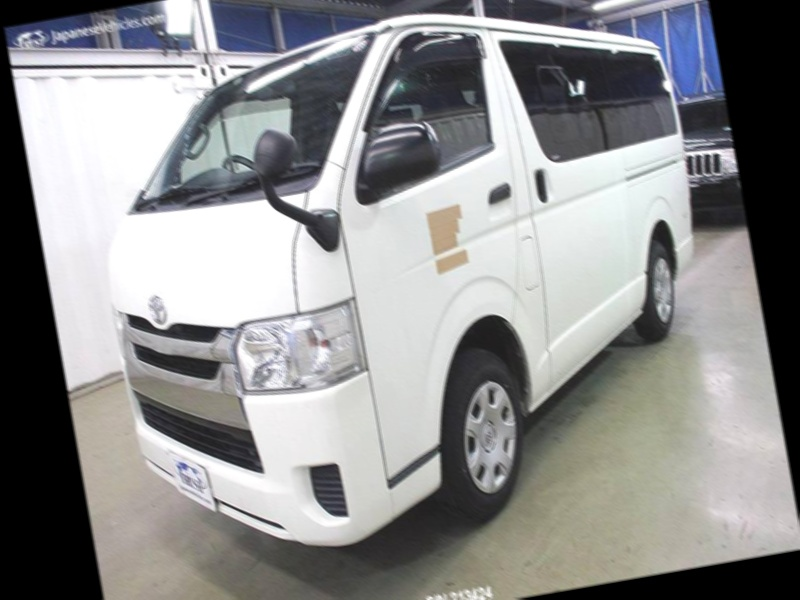van: (69, 0, 745, 580)
